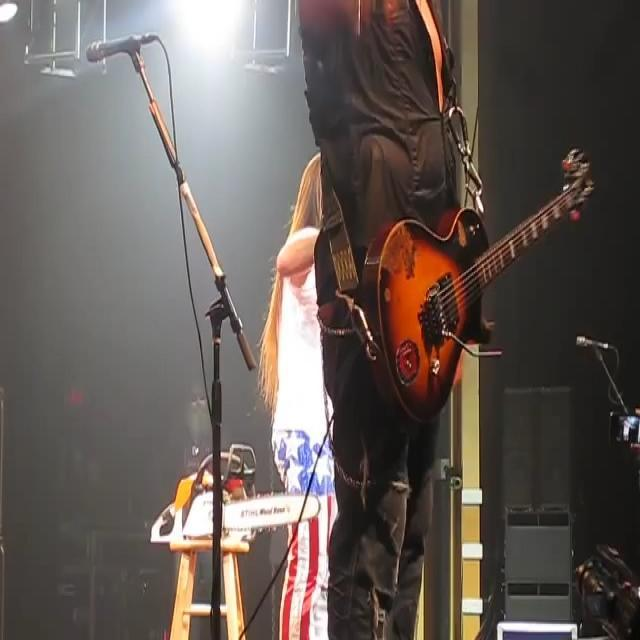Chainsaw: (136, 438, 333, 568)
